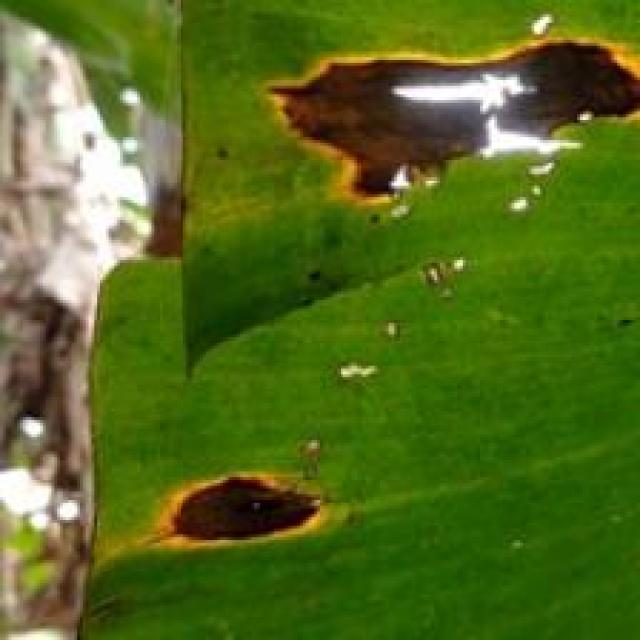Bacterial_spot: (262, 28, 640, 208), (120, 461, 349, 575), (405, 240, 502, 299), (315, 332, 400, 389), (281, 409, 342, 478)
